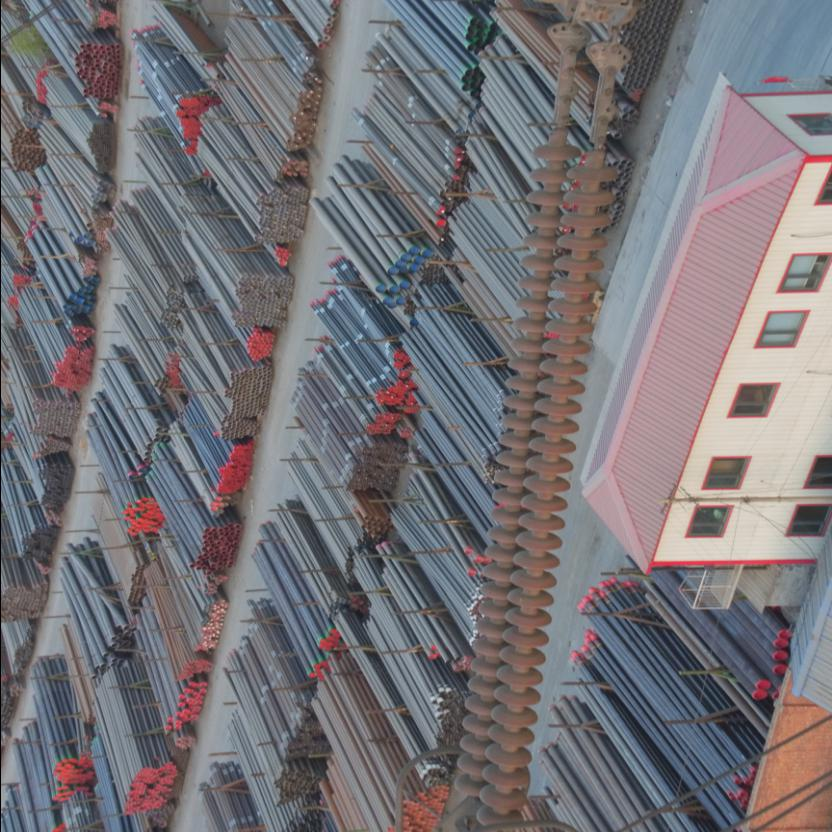insulator: (445, 94, 621, 831)
